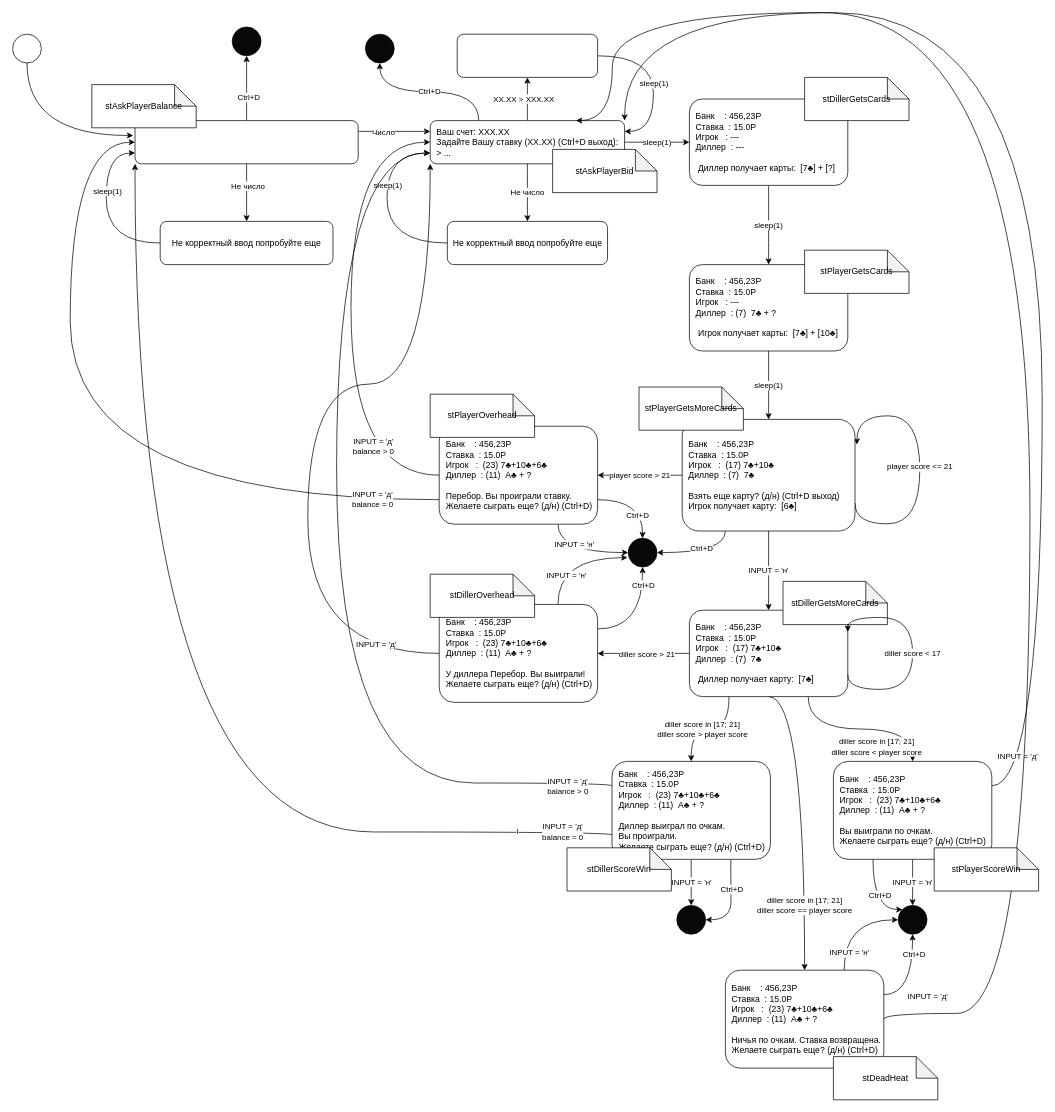
The diagram is 1055 pixels wide and 1112 high, and some of its shapes have lost their labels. The centre of each missing label's shape, as x and y in pixels:
Внесите средства на счет (XXX.XX) (Ctrl+D выход) : > ...: (246,142)
Ставка не может превышать счет: (527,55)
